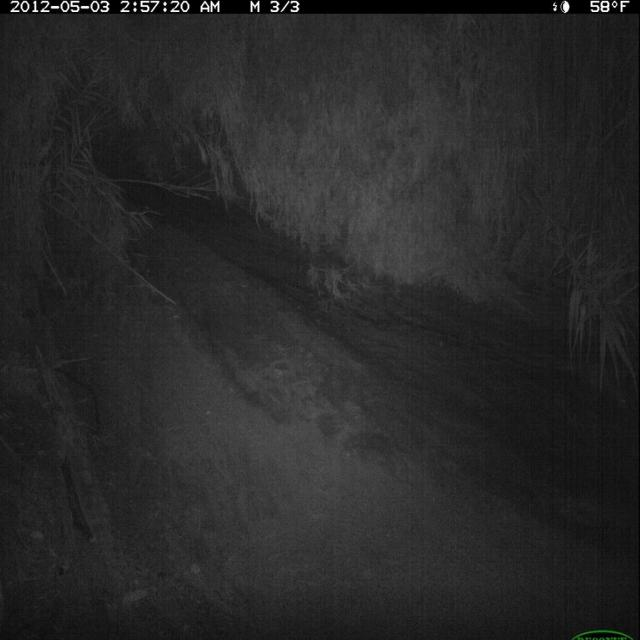opossum: (559, 354, 634, 415)
